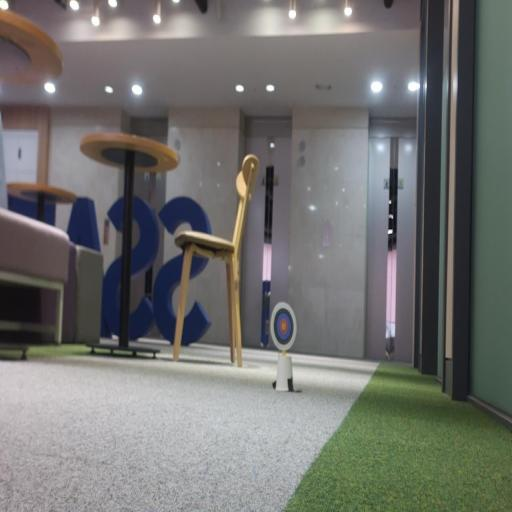target: (270, 303, 296, 351)
